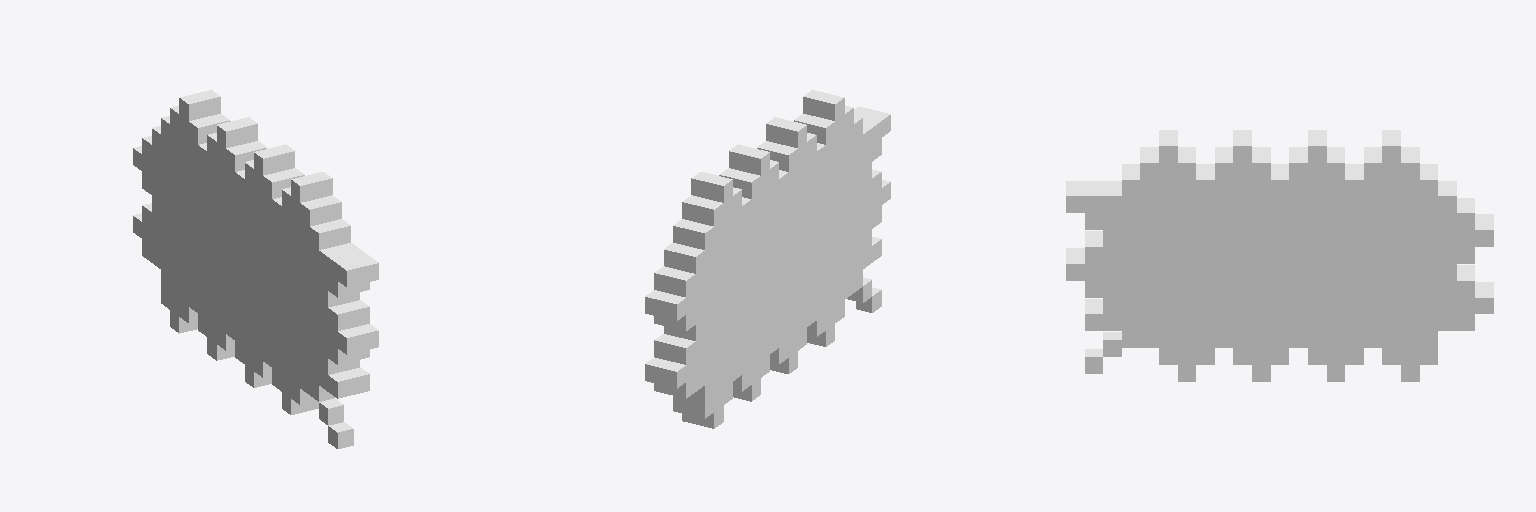
File: Help.obj
The picture shows the model from 3 angles: view 1: azimuth 30°, elevation 25°; view 2: azimuth 150°, elevation 25°; view 3: azimuth 270°, elevation 25°; orthographic projection.
Bounding box in the file's own units: 2 × 14 × 23.